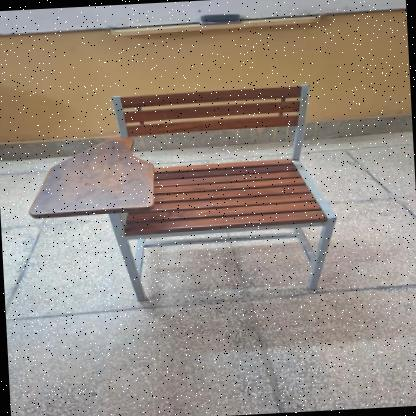chair: (14, 74, 348, 314)
